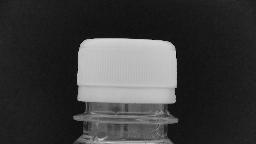Loose Cap: (70, 80, 180, 128)
